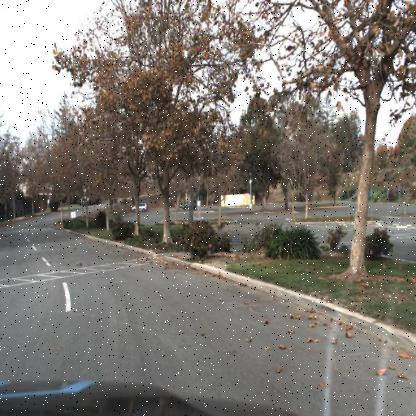car: (176, 199, 198, 215), (180, 200, 198, 214), (131, 201, 149, 213)
